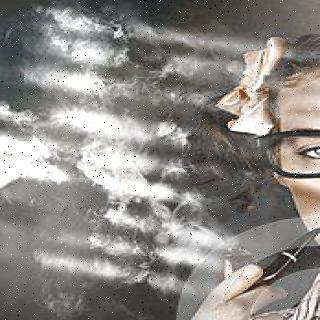smoke: (1, 12, 202, 270)
